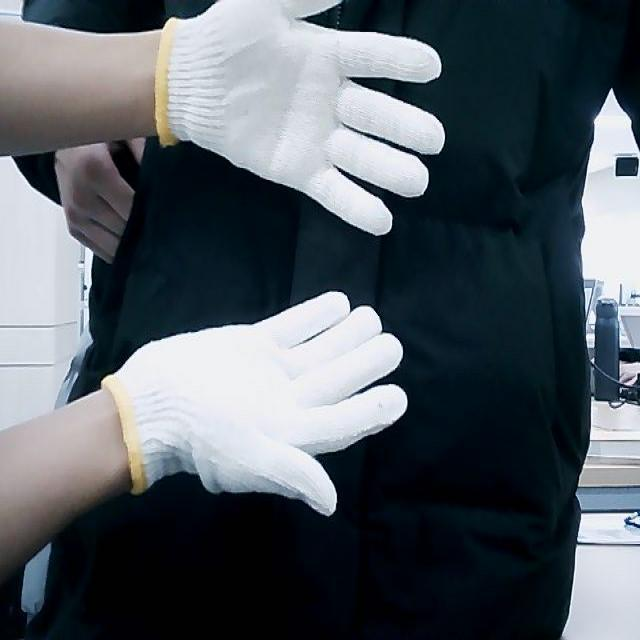GLOVE: (152, 0, 446, 240), (100, 289, 408, 516)
